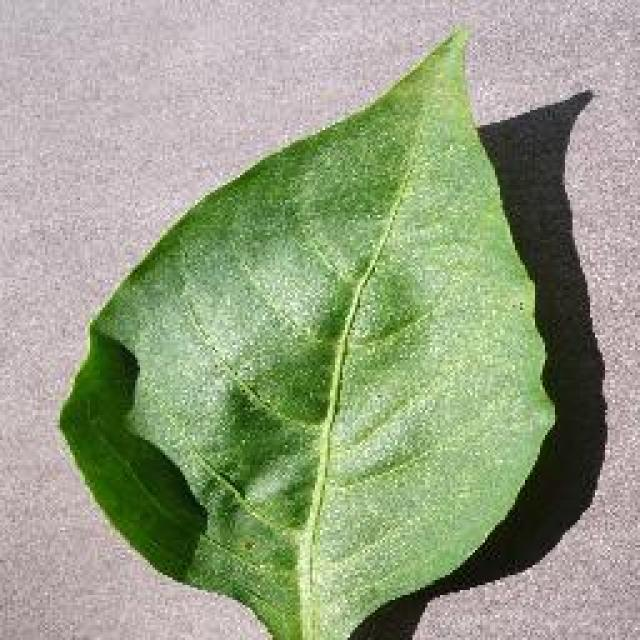Leaf: (53, 24, 605, 605)
